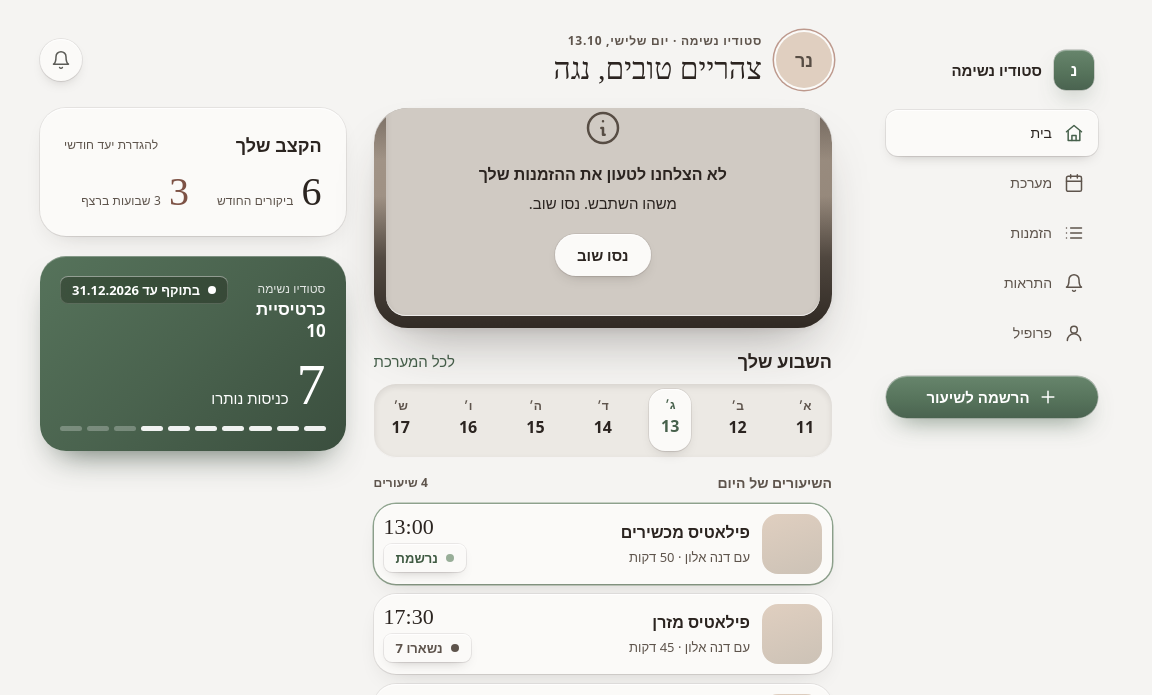
Test case: member home › says when my bookings could not be read, and retries
The image size is (1152, 695).
Check: the text "לא הצלחנו לטעון את ההזמנות שלך" is shown, box x1=479 y1=162 x2=727 y2=186
Click the button "נסו שוב": (603, 255) x1=555 y1=234 x2=651 y2=276
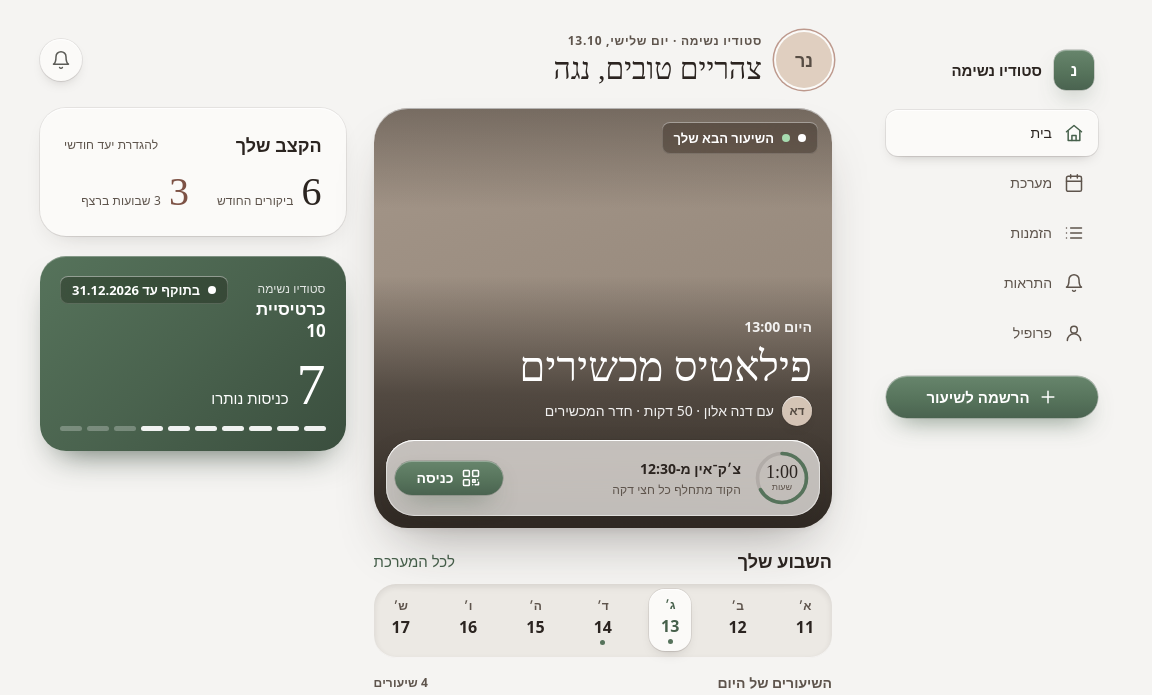
Check: the element "פילאטיס מכשירים" shows "היום 13:00", box x1=374 y1=108 x2=832 y2=528
